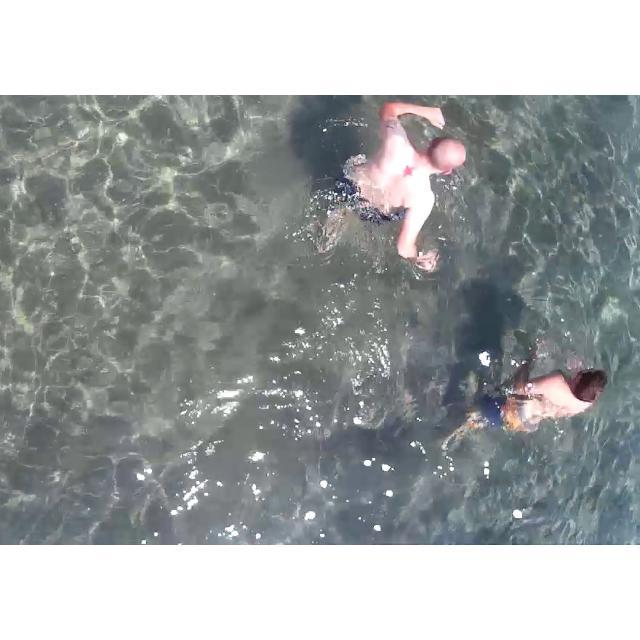human: (339, 95, 476, 285), (482, 336, 615, 434)
